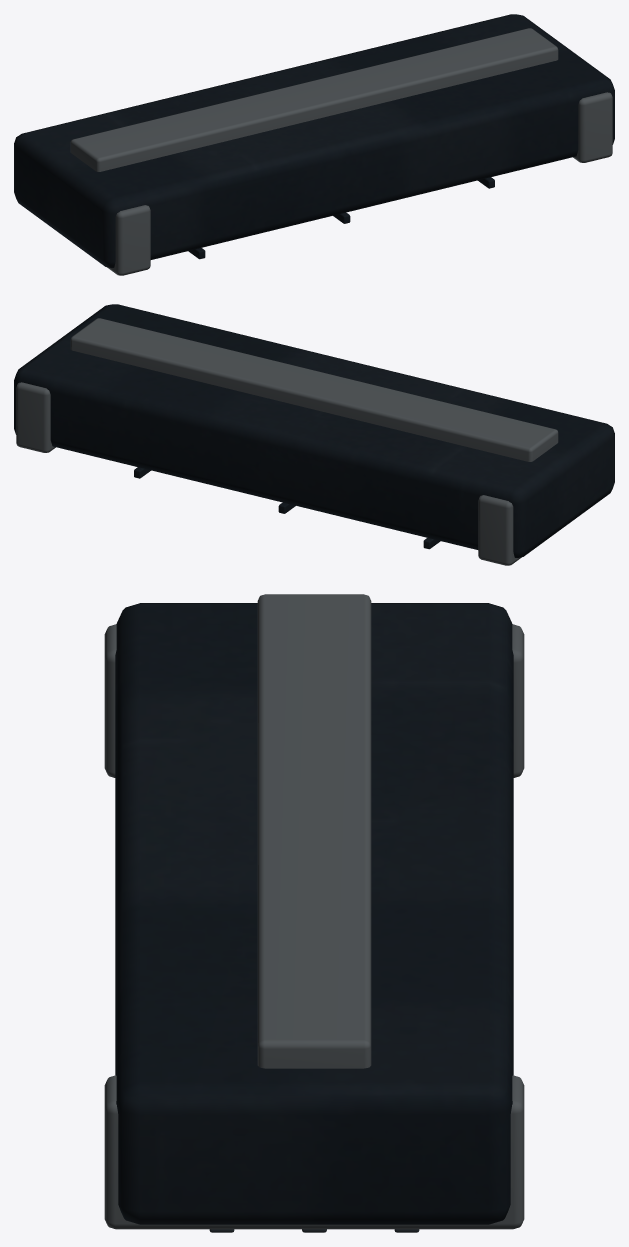
File: fixture-160cm.glb
3 views of the same model, one above another, from view 1: azimuth 30°, elevation 25°; view 2: azimuth 150°, elevation 25°; view 3: azimuth 270°, elevation 25° (orthographic). The views are drawn at different scales.
Parts seen in each view (by area): view 1: Dock_Light_160cm.003; view 2: Dock_Light_160cm.003; view 3: Dock_Light_160cm.003.
Part boxes in pixels (x1,y1,x2,y2): Dock_Light_160cm.003: (14,14,614,275); Dock_Light_160cm.003: (14,304,614,565); Dock_Light_160cm.003: (104,594,524,1232).
Size of the model in its own units: 1.66 by 0.3315 by 0.59.
Materials: 1 (1 with a texture image).
